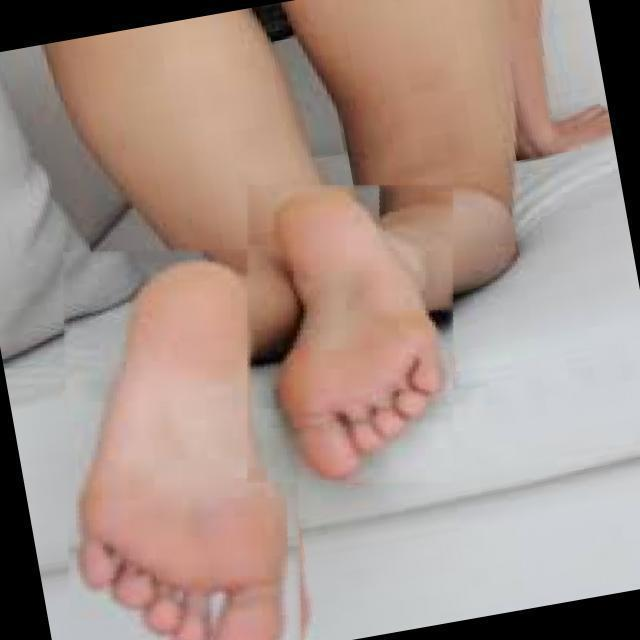No_Shoes: (124, 242, 292, 636), (253, 164, 471, 466)
